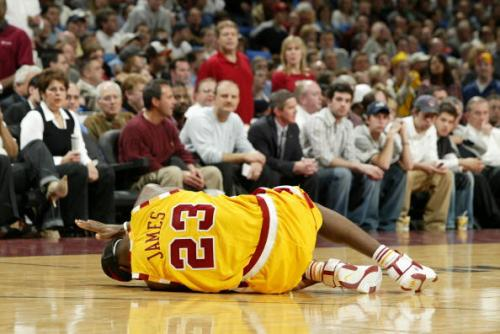10+: (1, 1, 499, 305)
down: (87, 174, 436, 295)
